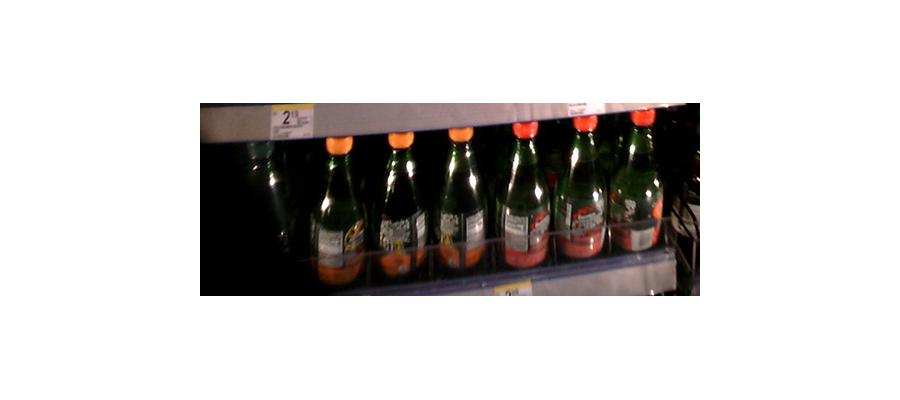bottle: (310, 130, 366, 285), (430, 124, 486, 277), (371, 128, 425, 285), (497, 118, 552, 272), (553, 114, 609, 265), (610, 109, 664, 257)
